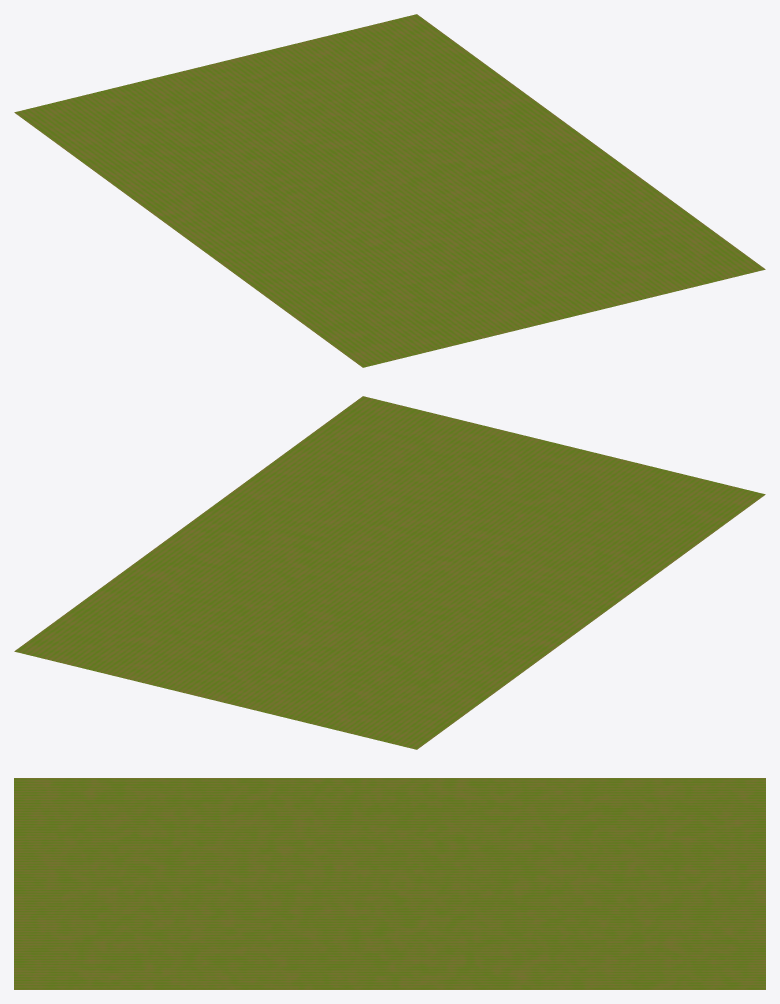
The model's file is forest plane 1.fbx.
3 renders of one model, top to bottom at view 1: azimuth 30°, elevation 25°; view 2: azimuth 150°, elevation 25°; view 3: azimuth 270°, elevation 25°, orthographic. The views are drawn at different scales.
Parts seen in each view (by area): view 1: Forest Floor 1 EXP; view 2: Forest Floor 1 EXP; view 3: Forest Floor 1 EXP.
Part boxes in pixels (bbox=[...]): Forest Floor 1 EXP: bbox=[14, 14, 765, 367]; Forest Floor 1 EXP: bbox=[14, 396, 765, 749]; Forest Floor 1 EXP: bbox=[14, 778, 765, 989].
Size of the model in its own units: 6000 by 0.00147 by 9000.
Materials: 1 (1 with a texture image).
